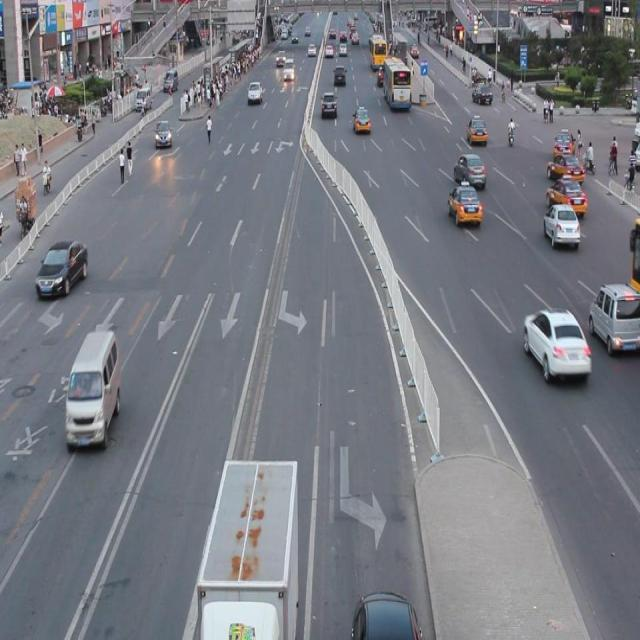bus: (194, 456, 298, 640)
car: (522, 304, 590, 377), (348, 586, 421, 640), (586, 282, 640, 350), (35, 238, 89, 296), (545, 176, 586, 217), (542, 202, 578, 244), (446, 181, 480, 224), (546, 151, 583, 184), (453, 153, 483, 185)
truck: (65, 330, 120, 447)
